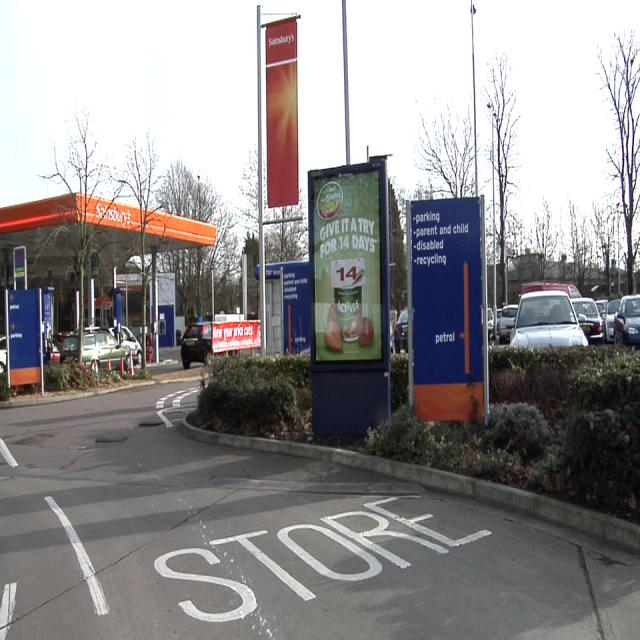Building: (390, 182, 407, 310)
Car: (514, 285, 605, 346), (82, 328, 139, 370), (181, 321, 210, 367), (616, 294, 639, 347), (498, 306, 516, 343)
Road: (5, 384, 596, 635)
Tree: (513, 31, 639, 290), (38, 101, 164, 301), (155, 152, 256, 318), (602, 28, 639, 289), (413, 94, 474, 197)
